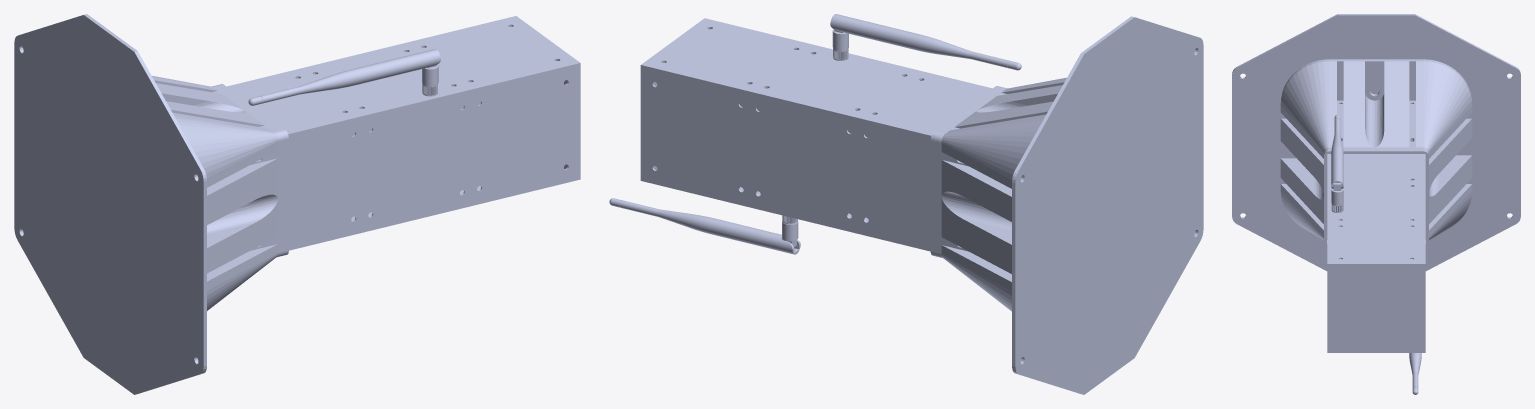
File: cubesat.glb
The picture shows the model from 3 angles, left to right: view 1: azimuth 30°, elevation 25°; view 2: azimuth 150°, elevation 25°; view 3: azimuth 270°, elevation 25°; orthographic projection. The views are drawn at different scales.
Visible parts, largest first — view 1: NAUO4, NAUO2, NAUO1, NAUO11; view 2: NAUO4, NAUO2, NAUO1, NAUO11, NAUO8; view 3: NAUO4, NAUO1, NAUO2, NAUO11, NAUO8.
Part boxes in pixels (x1=…): NAUO4: x1=14, y1=14, x2=206, y2=394; NAUO2: x1=227, y1=16, x2=580, y2=250; NAUO1: x1=152, y1=76, x2=288, y2=310; NAUO11: x1=248, y1=49, x2=440, y2=105; NAUO4: x1=1012, y1=16, x2=1203, y2=394; NAUO2: x1=640, y1=18, x2=992, y2=251; NAUO1: x1=930, y1=77, x2=1066, y2=311; NAUO11: x1=830, y1=14, x2=1021, y2=70; NAUO8: x1=609, y1=198, x2=800, y2=254; NAUO4: x1=1232, y1=14, x2=1520, y2=270; NAUO1: x1=1280, y1=59, x2=1472, y2=245; NAUO2: x1=1327, y1=154, x2=1425, y2=352; NAUO11: x1=1331, y1=115, x2=1343, y2=188; NAUO8: x1=1409, y1=353, x2=1421, y2=394.
Size of the model in its own units: 0.4366 by 0.3 by 0.3.
